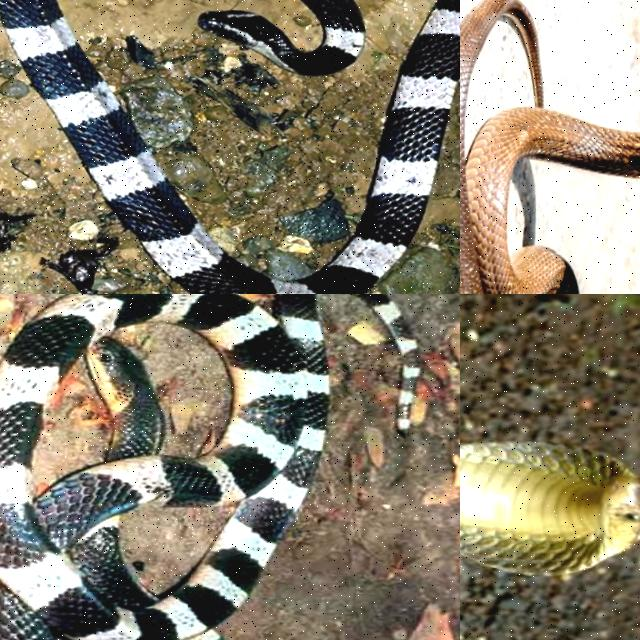Bungarus candidus: (0, 0, 459, 293), (0, 294, 328, 639)
Naja kaouthia: (460, 0, 639, 293), (460, 442, 639, 575)
